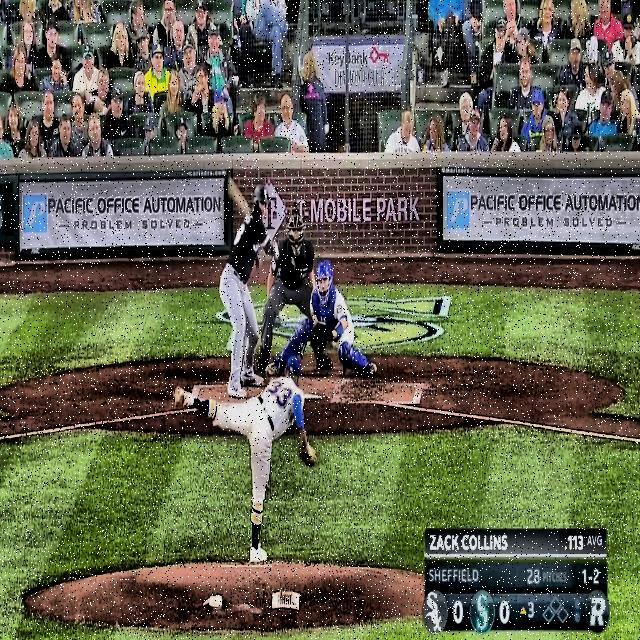baseball: (278, 309, 287, 323)
